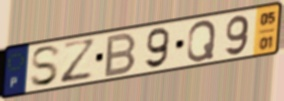9: (143, 26, 172, 70), (224, 13, 251, 57)
B: (102, 31, 139, 80)
Q: (185, 18, 218, 64)
S: (28, 44, 63, 88)
Z: (59, 37, 99, 86)
